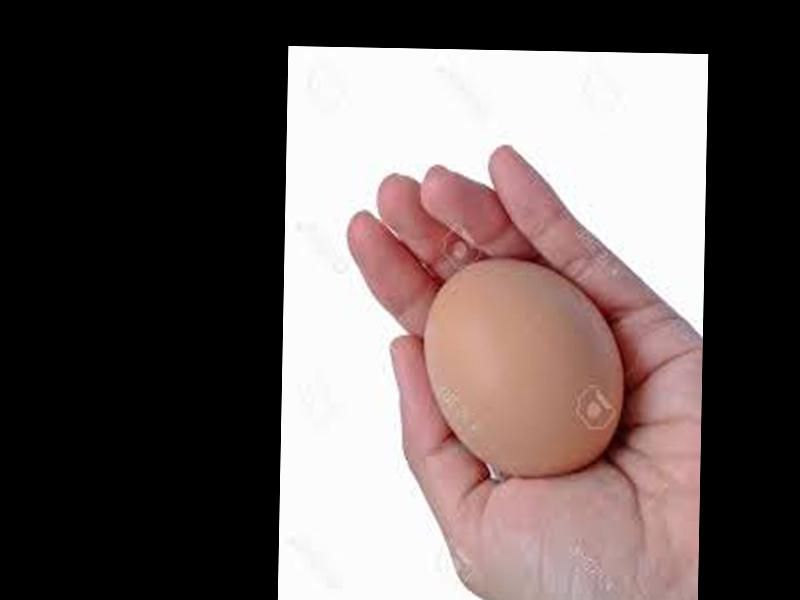Eggs: (421, 256, 623, 480)
